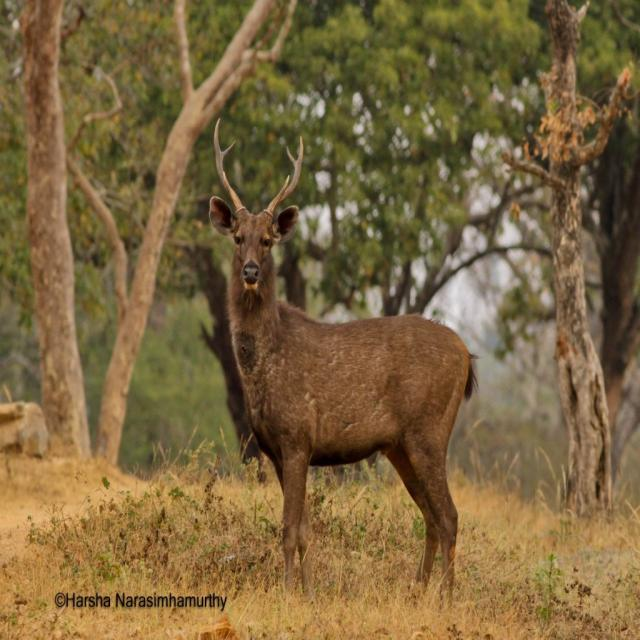Deer: (209, 117, 480, 620)
